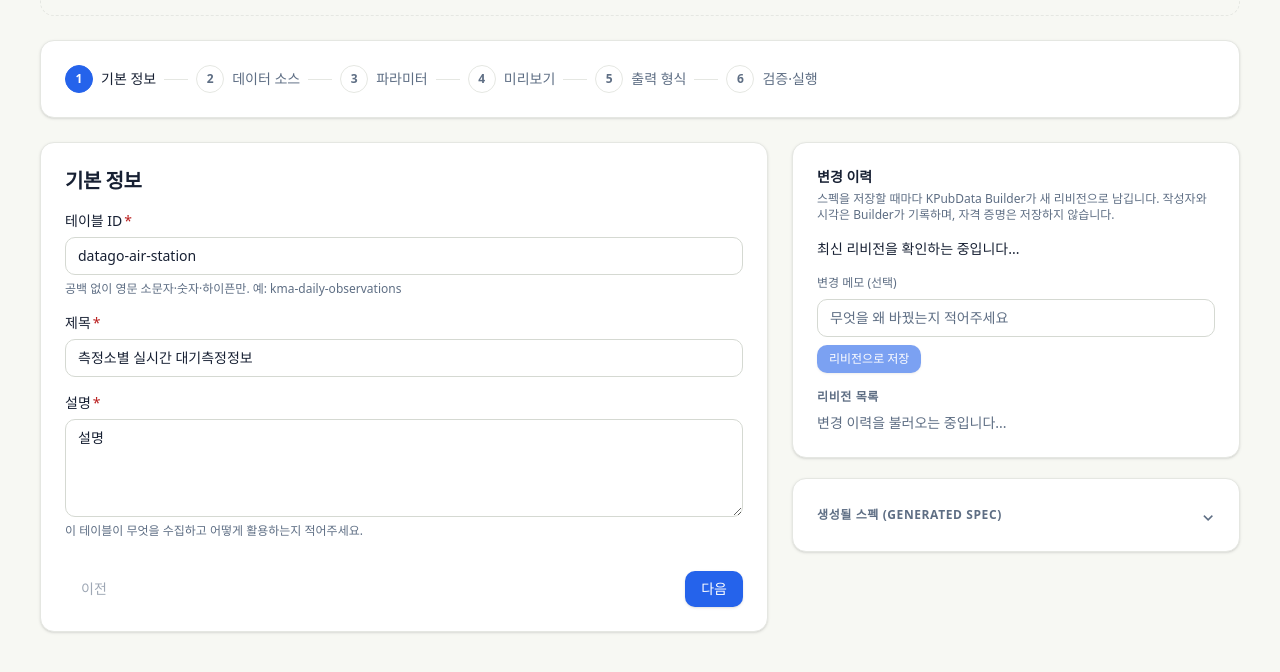
the edit form and a spec without an output path (#883) › still requires the path of a spec that had one
(page scrolled)
Expected: the heading "기본 정보" is shown, [65,167,141,194]
Click the button "다음".
click(714, 589)  # box [685,571,743,607]
(page scrolled)
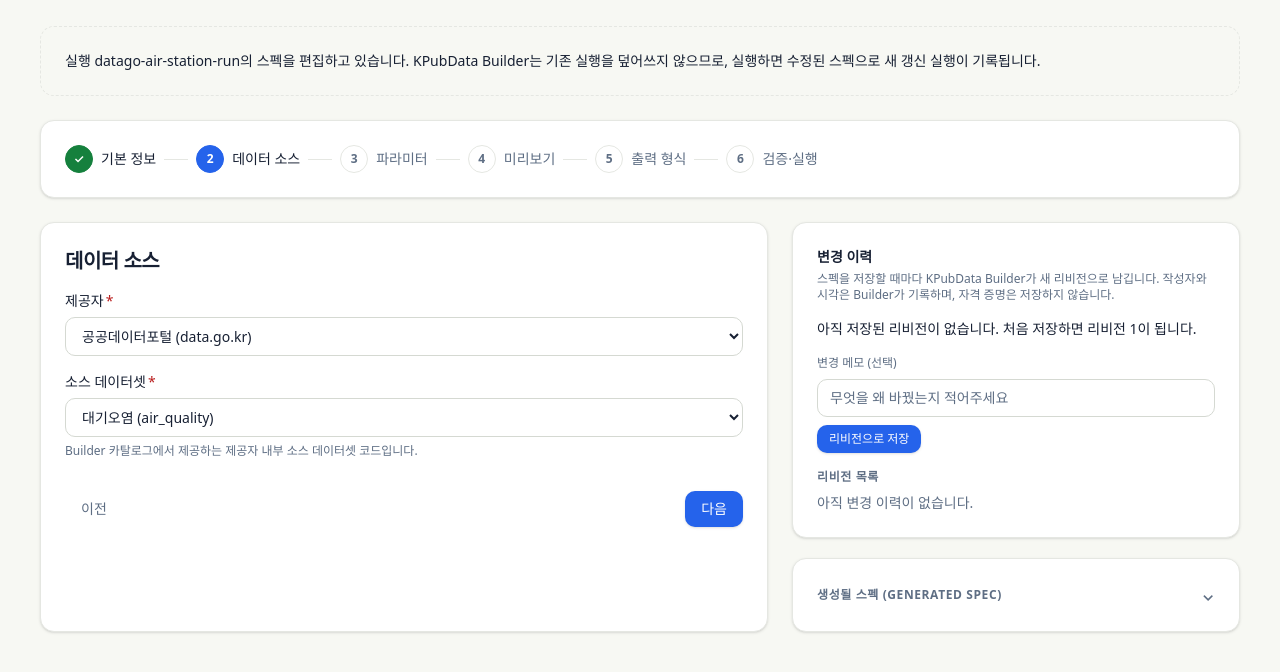
Expected: the heading "데이터 소스" is shown, [65,247,159,274]
Click the button "다음".
click(714, 509)  # box [685,491,743,527]
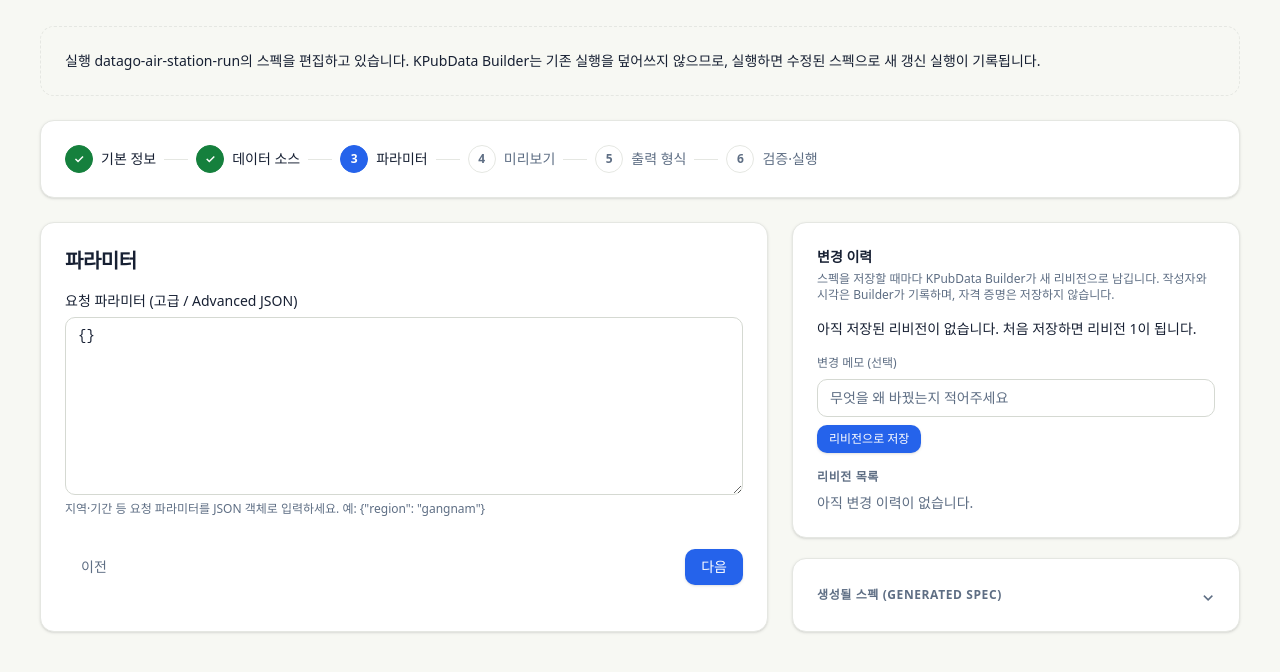
Expected: the heading "파라미터" is shown, [65,247,137,274]
Click the button "다음".
click(714, 567)  # box [685,549,743,585]
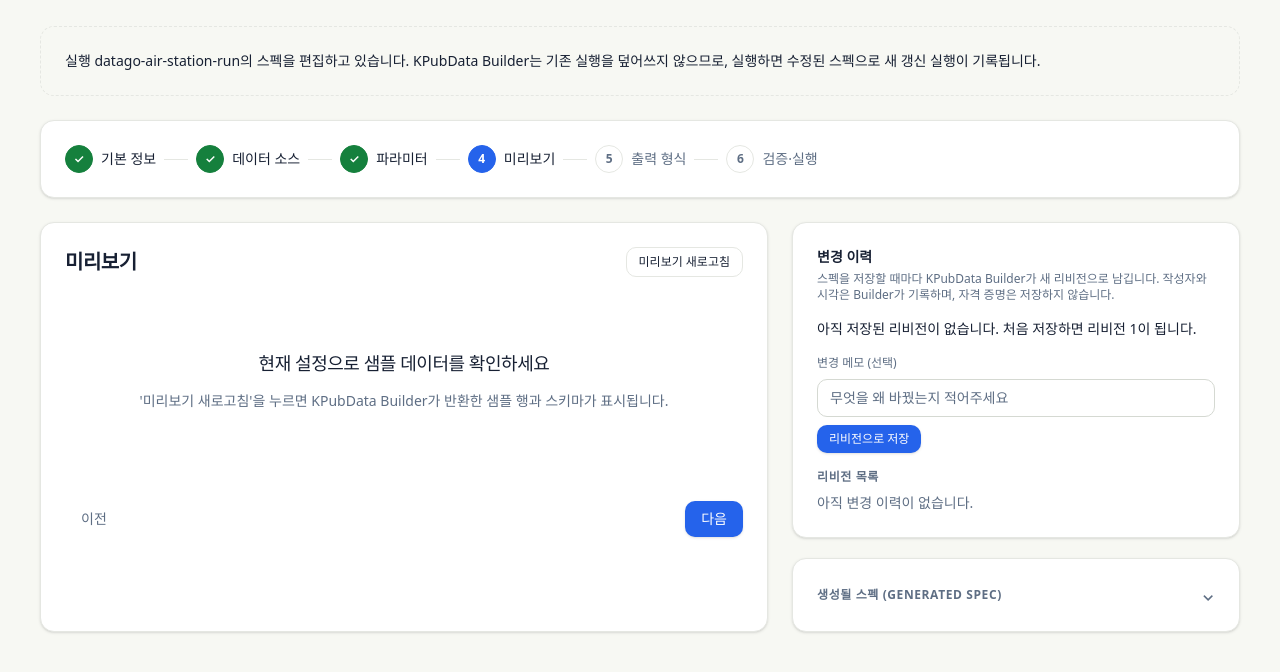
Expected: the heading "미리보기" is shown, [65,248,137,276]
Click the button "다음".
click(714, 519)  # box [685,501,743,537]
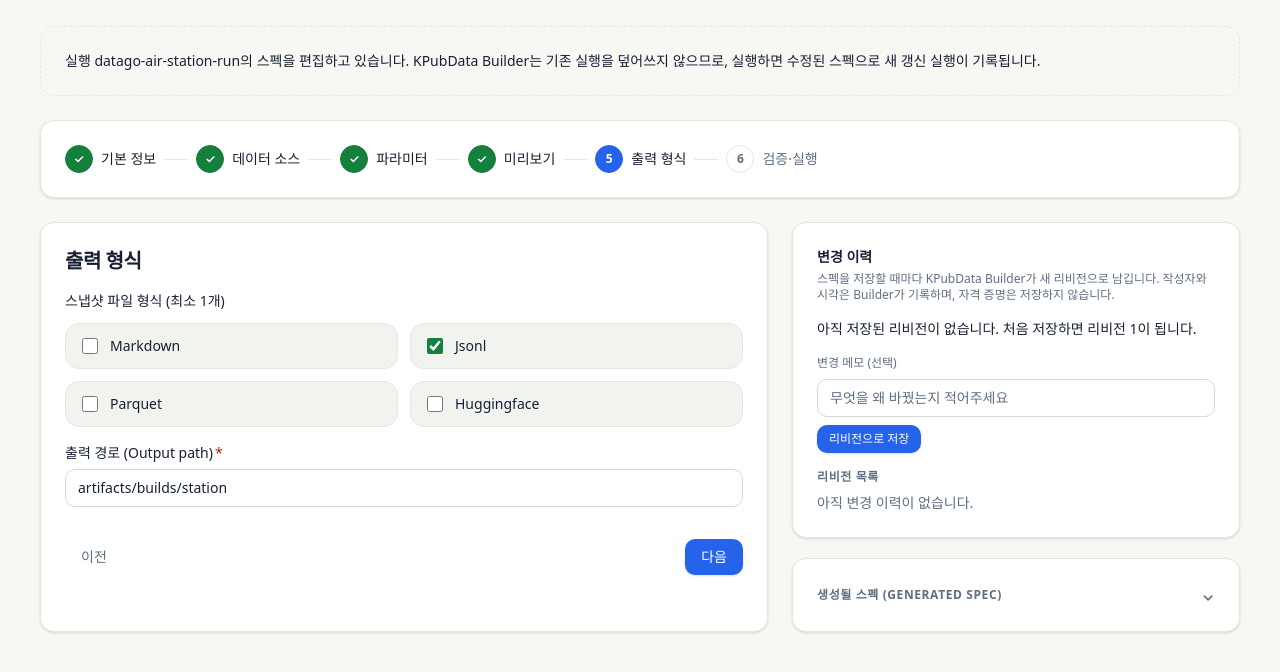
Expected: the heading "출력 형식" is shown, [65,247,141,274]
Expected: the field labelled "출력 경로 (Output path)*" holds "artifacts/builds/station"
Clear the field labelled "출력 경로 (Output path)*" at (404, 488), box [65,469,743,507]
(page scrolled)
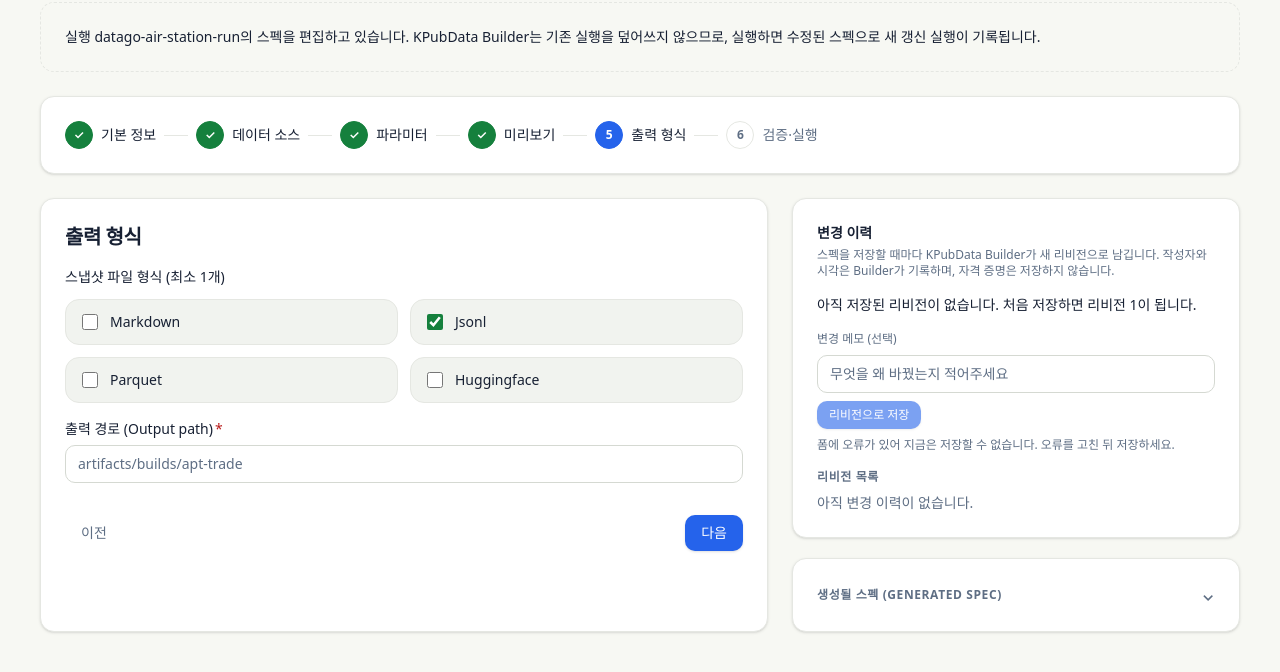
Click the button "다음".
click(714, 533)  # box [685,515,743,551]
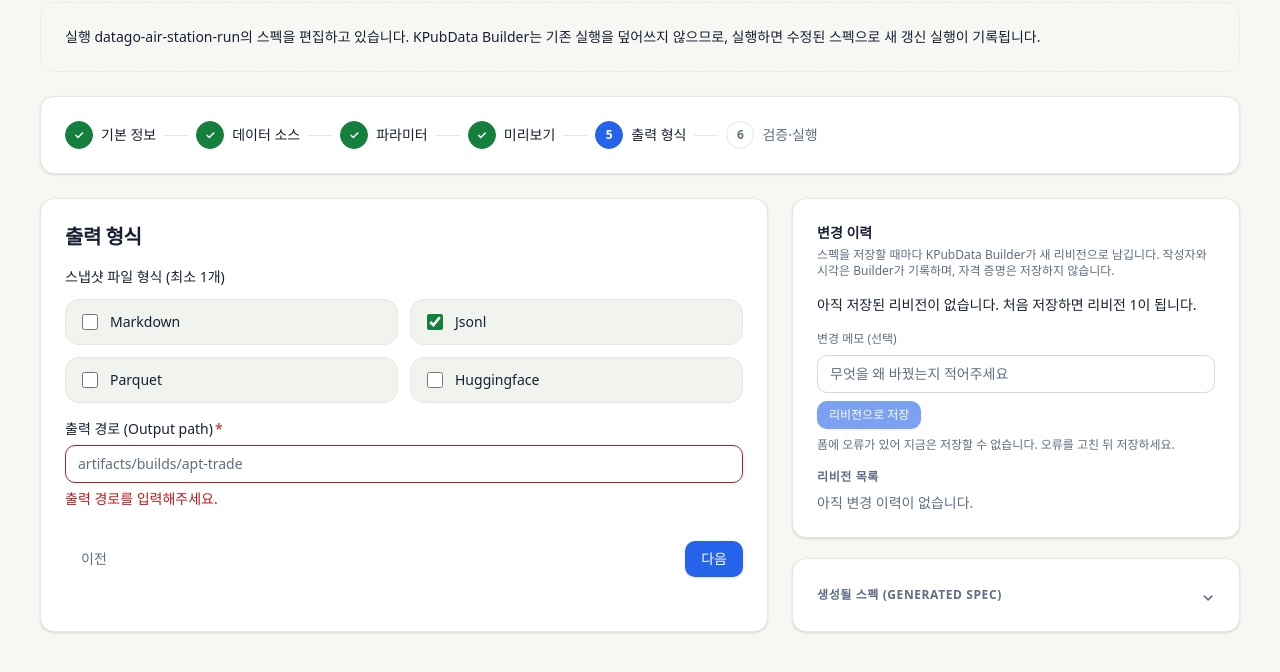
Expected: the text "출력 경로를 입력해주세요." is shown, [65,489,218,508]
